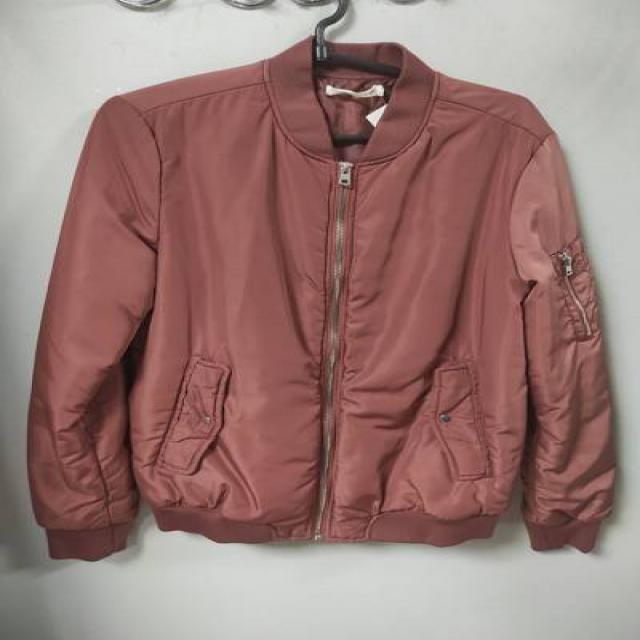Clothes -Biodegradable-: (28, 30, 616, 560)
